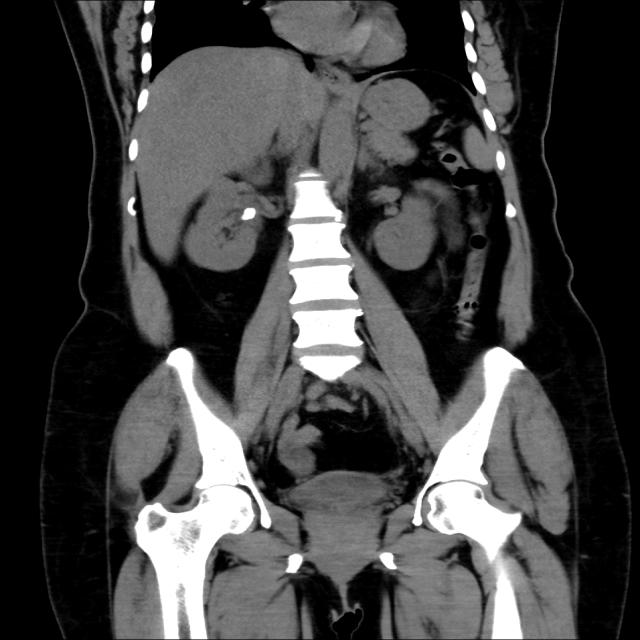kidneystone: (242, 208, 257, 219)
